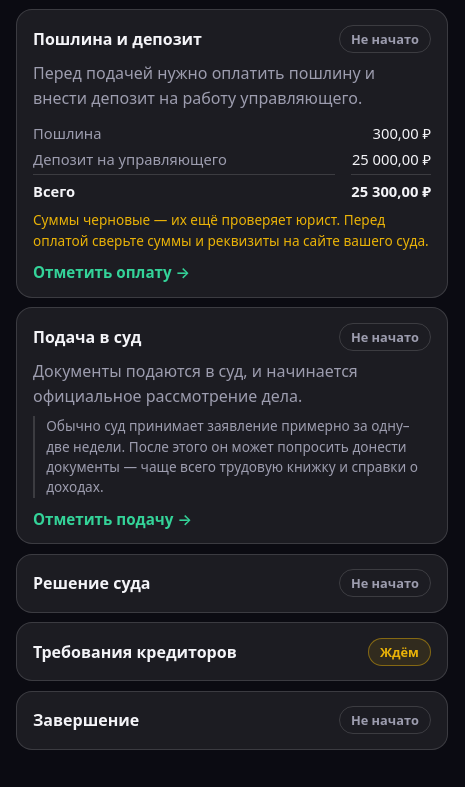
Test case: ProcedurePage › explains a BLOCKED stage without it reading like an error
(page scrolled)
Click the button "Требования кредиторов Ждём".
click(232, 652)  # box [33,638,431,666]
(page scrolled)
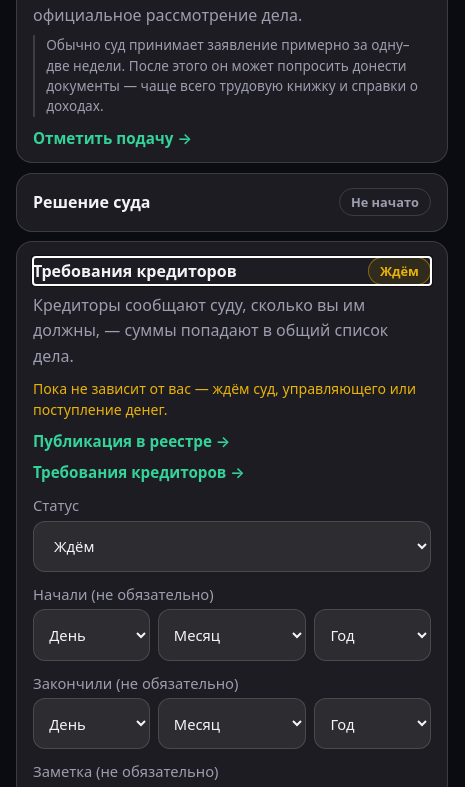
Result: the text "Пока не зависит от вас — ждём суд, управляющего или поступление денег." is shown at [33,378,431,420]
